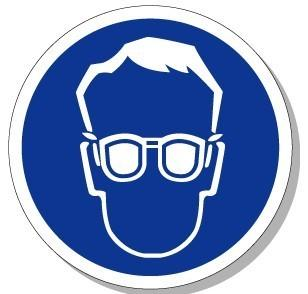ImgView: (1, 1, 307, 293)
